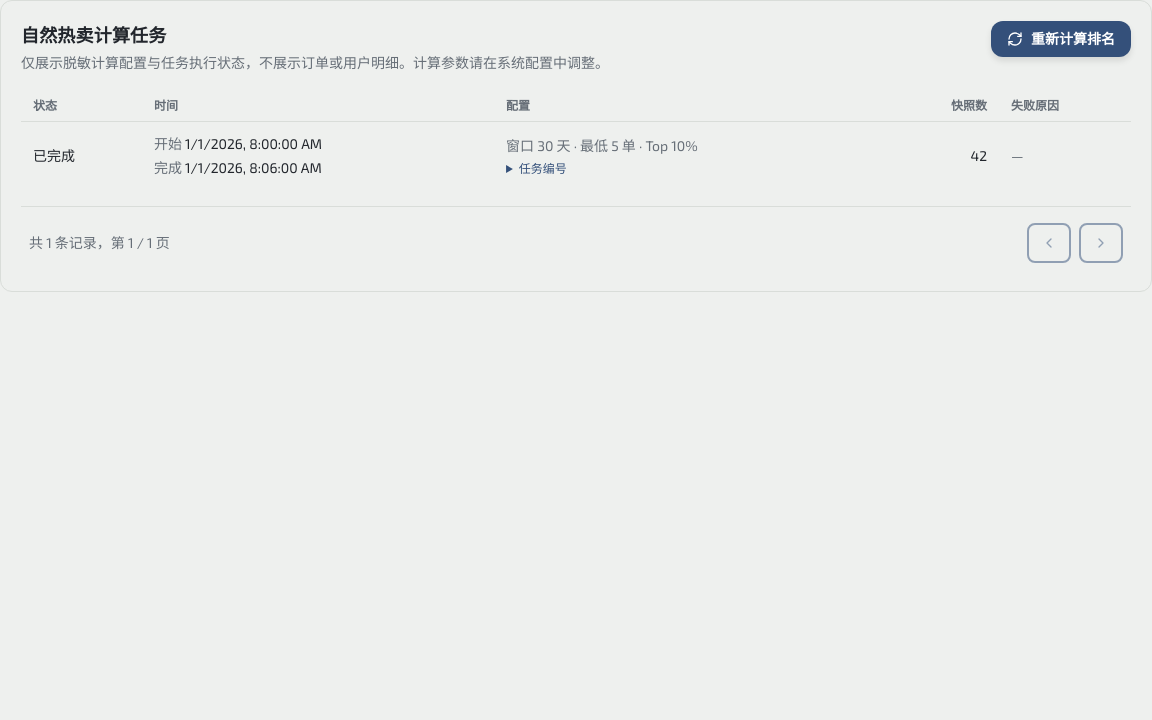
Test: AdminMerchandisingRunPanel › warns with role=status when recompute reports lock_busy
The width and height of the screenshot is (1152, 720).
Expected: the table named "排名运行记录" is shown, x1=21 y1=89 x2=1131 y2=190
Click the button "重新计算排名": (1061, 39) x1=991 y1=21 x2=1131 y2=57
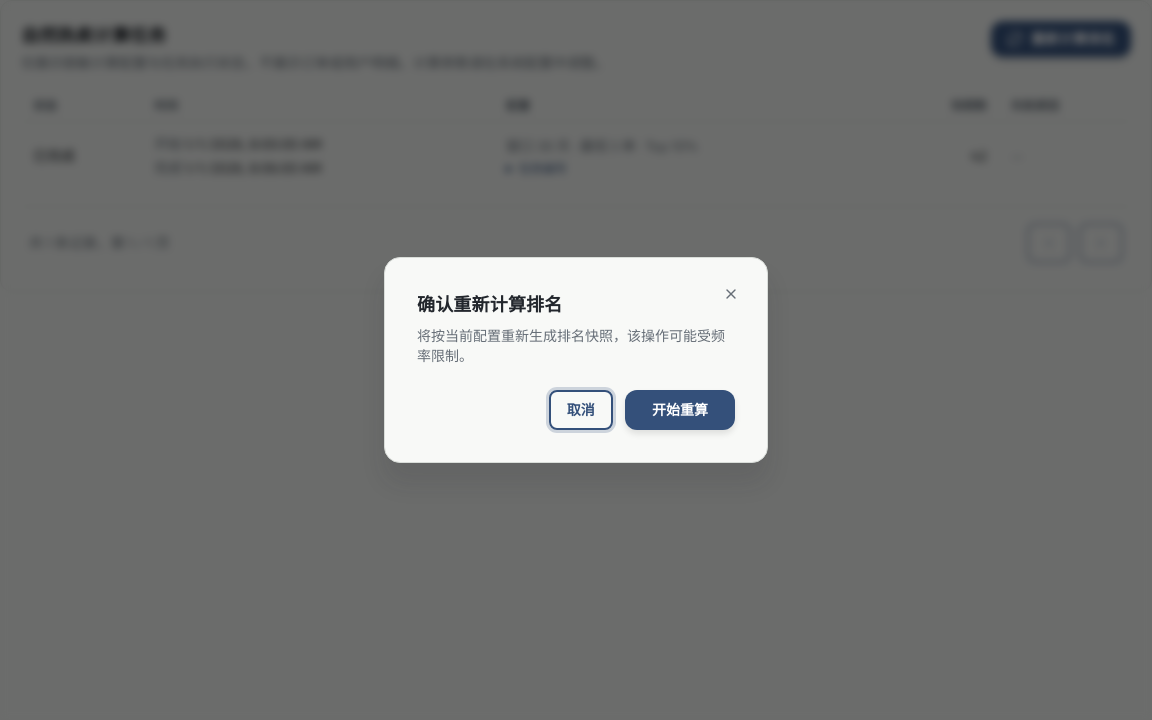
Click the button "开始重算": (680, 410) x1=625 y1=390 x2=735 y2=430
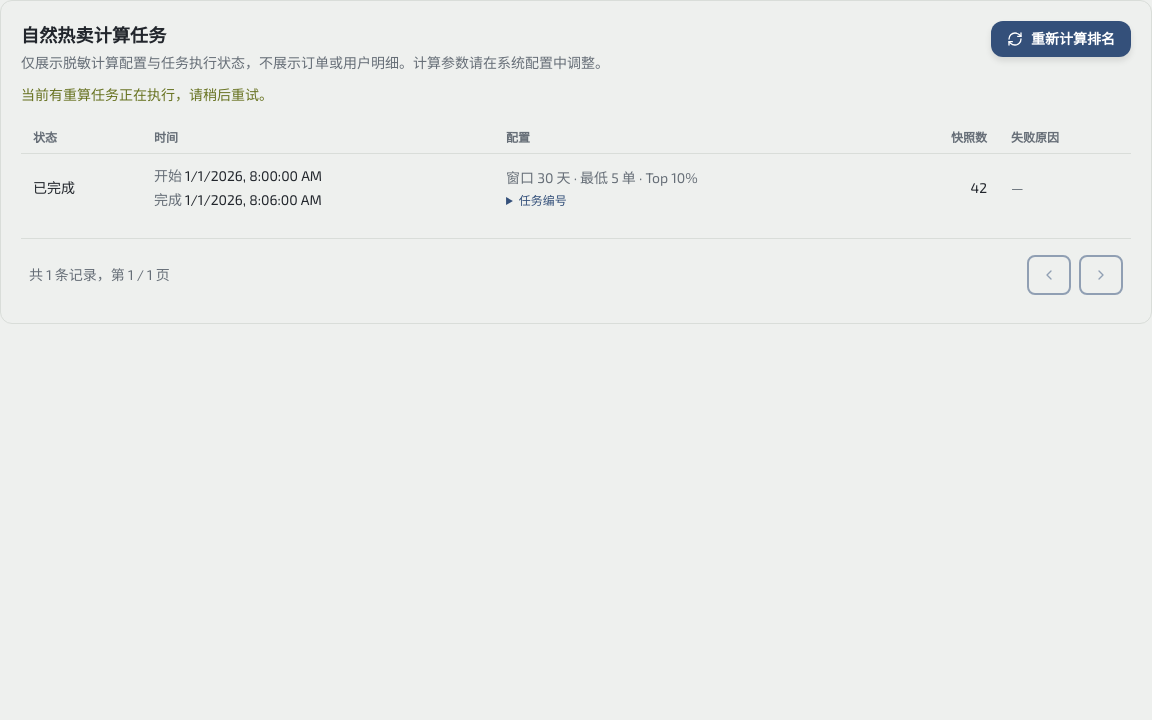
Expected: the table named "排名运行记录" is shown, x1=21 y1=121 x2=1131 y2=222
Expected: the text "当前有重算任务正在执行，请稍后重试。" is shown, x1=21 y1=86 x2=273 y2=103
